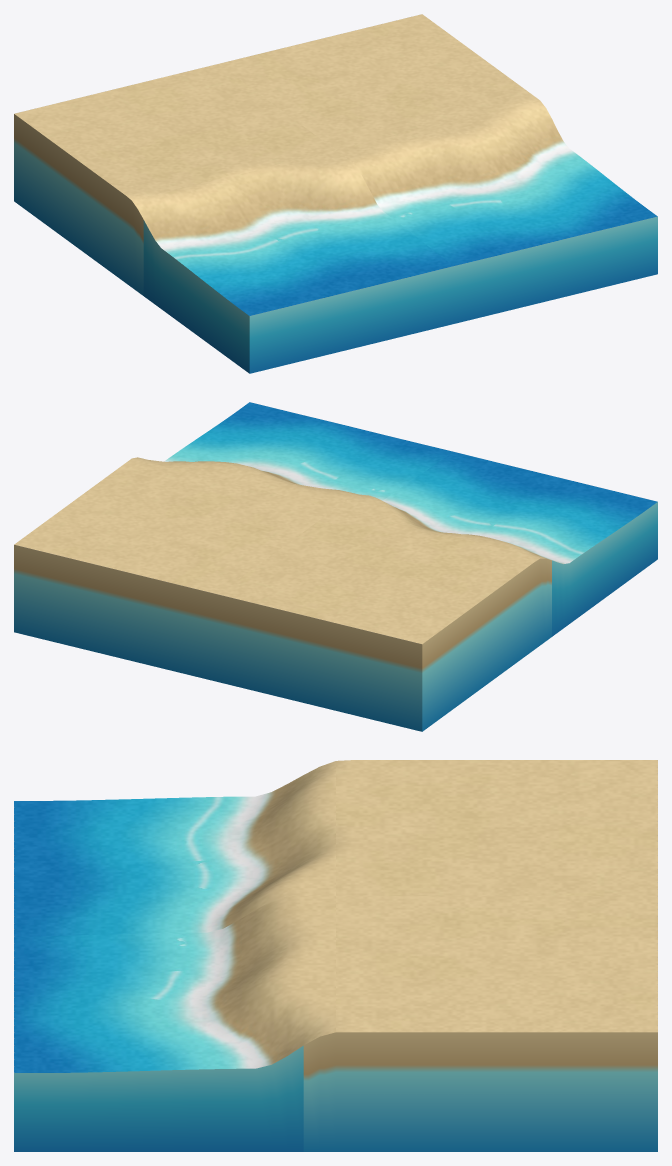
The model's file is Coast_Straight.obj.
3 renders of one model, top to bottom at view 1: azimuth 30°, elevation 25°; view 2: azimuth 150°, elevation 25°; view 3: azimuth 270°, elevation 25°, orthographic. The views are drawn at different scales.
Parts seen in each view (by area): view 1: Coast_Straight_Coast_Straight_Terrain, Coast_Straight_Palette; view 2: Coast_Straight_Coast_Straight_Terrain, Coast_Straight_Palette; view 3: Coast_Straight_Coast_Straight_Terrain, Coast_Straight_Palette.
Boxes of the visible parts, x1=… form: Coast_Straight_Coast_Straight_Terrain: x1=14, y1=14, x2=657, y2=315; Coast_Straight_Palette: x1=14, y1=114, x2=657, y2=373; Coast_Straight_Coast_Straight_Terrain: x1=14, y1=402, x2=657, y2=644; Coast_Straight_Palette: x1=14, y1=502, x2=657, y2=731; Coast_Straight_Coast_Straight_Terrain: x1=14, y1=760, x2=657, y2=1072; Coast_Straight_Palette: x1=14, y1=1032, x2=657, y2=1151.
Size of the model in its own units: 4 by 0.82 by 4.
2 materials, 2 textured.
